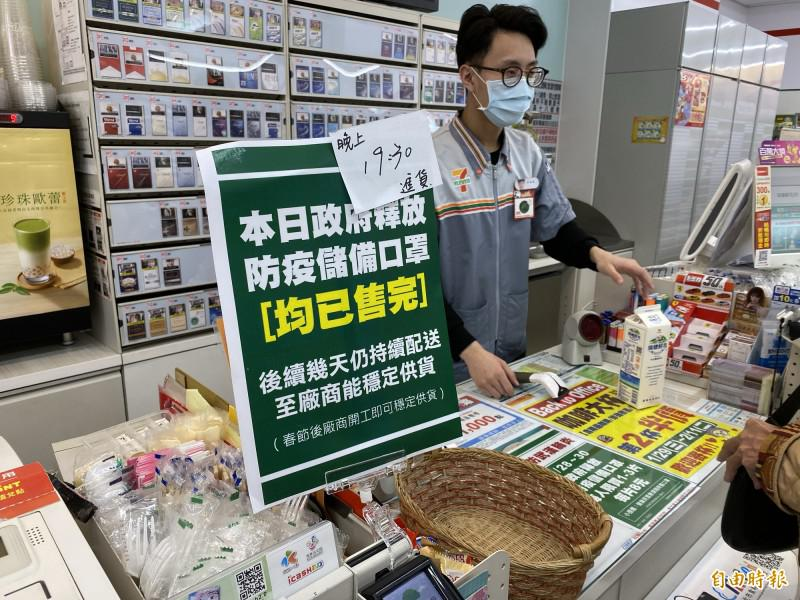mask: (474, 55, 542, 128)
